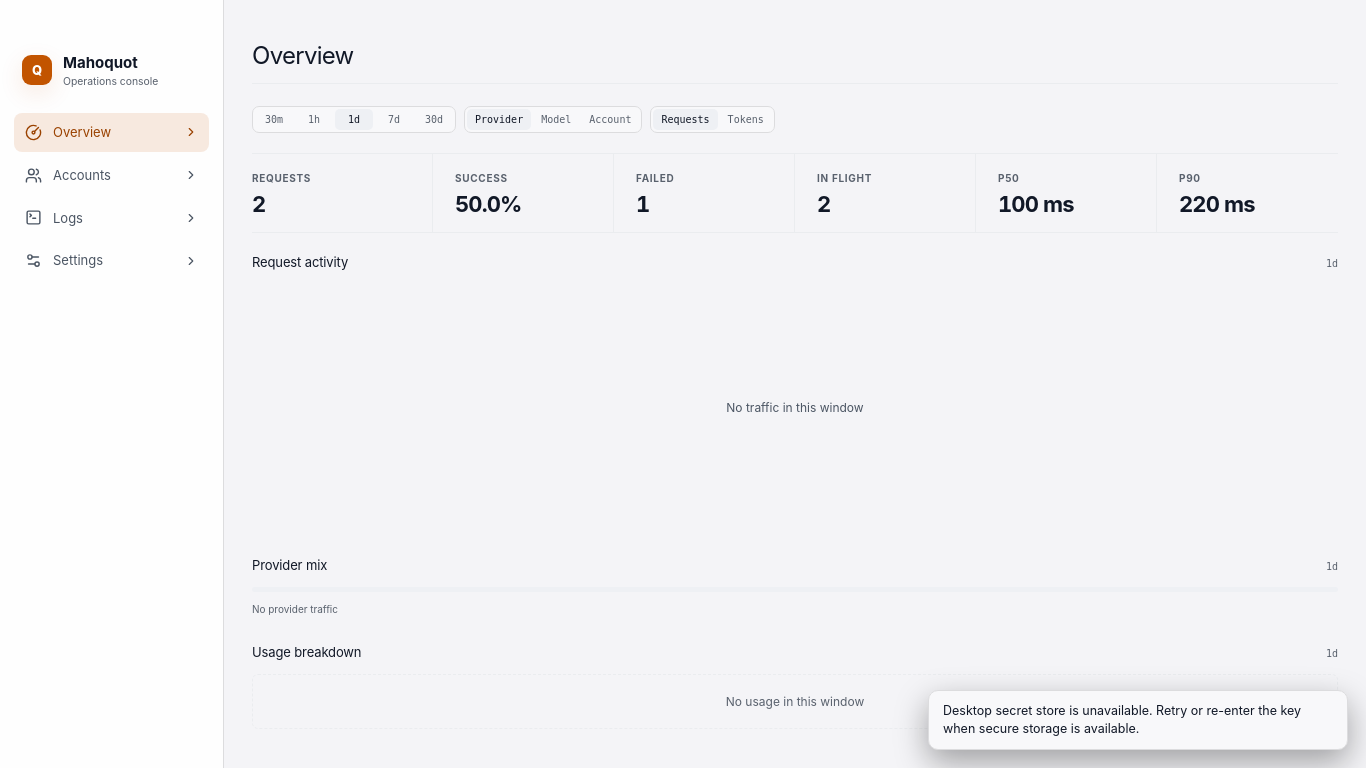
Test: Logs and Settings characterization pin › Logs surface behavior › displays the empty state when no records exist
This screenshot has width=1366, height=768.
Click the button "Logs". click: (112, 218)
box: [14,198,209,237]
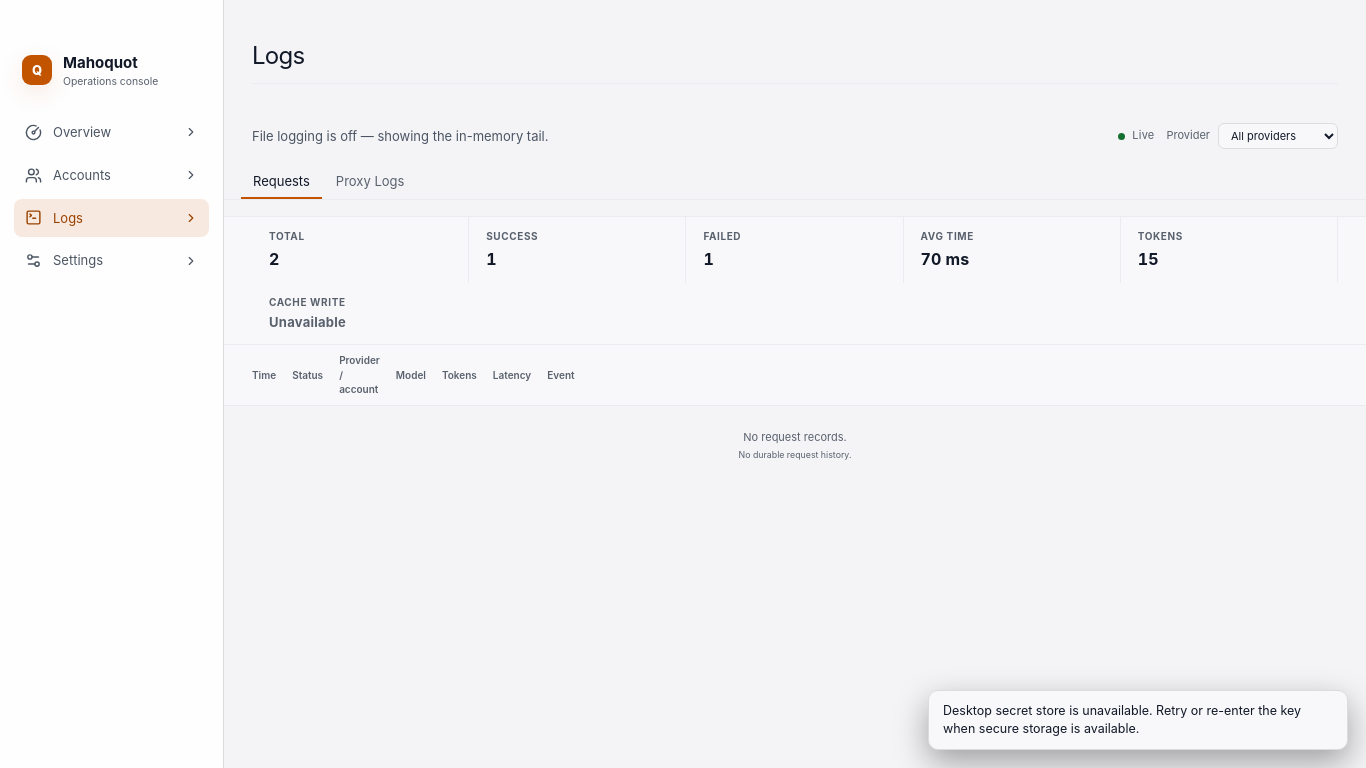
Now the text "No request records." is shown, box [743,430,847,444]
